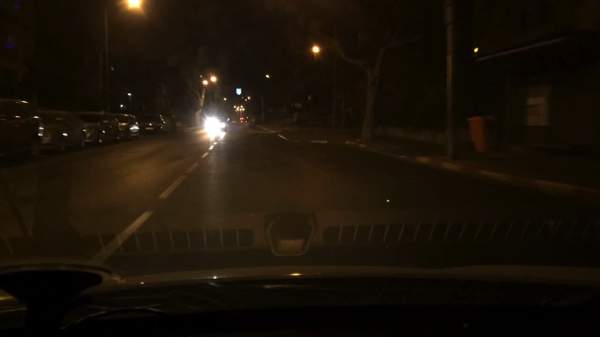car: (0, 98, 44, 159), (38, 110, 87, 151), (80, 112, 118, 143), (114, 113, 140, 140), (138, 113, 166, 135), (210, 121, 226, 132), (239, 117, 246, 122)
traffic sign: (235, 88, 241, 94)
